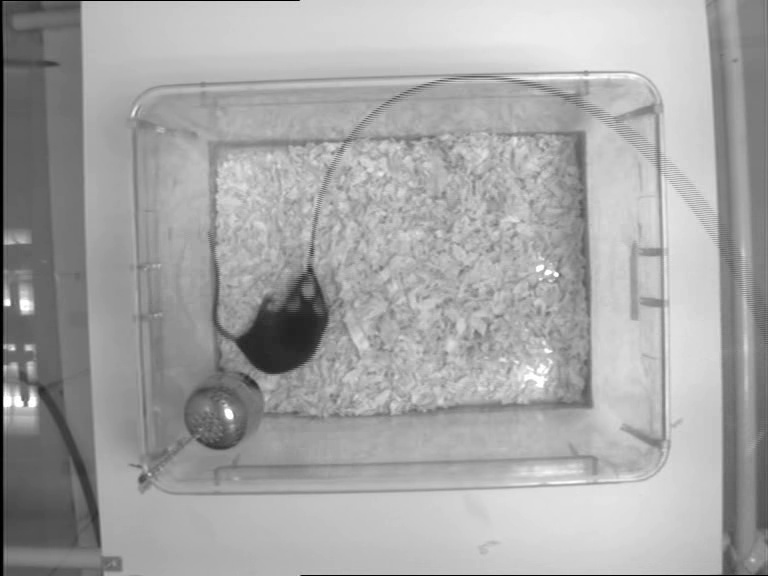mice: (204, 226, 333, 376)
